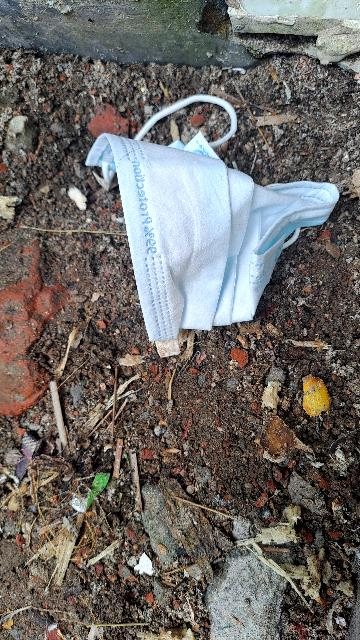mask: (85, 76, 351, 363)
